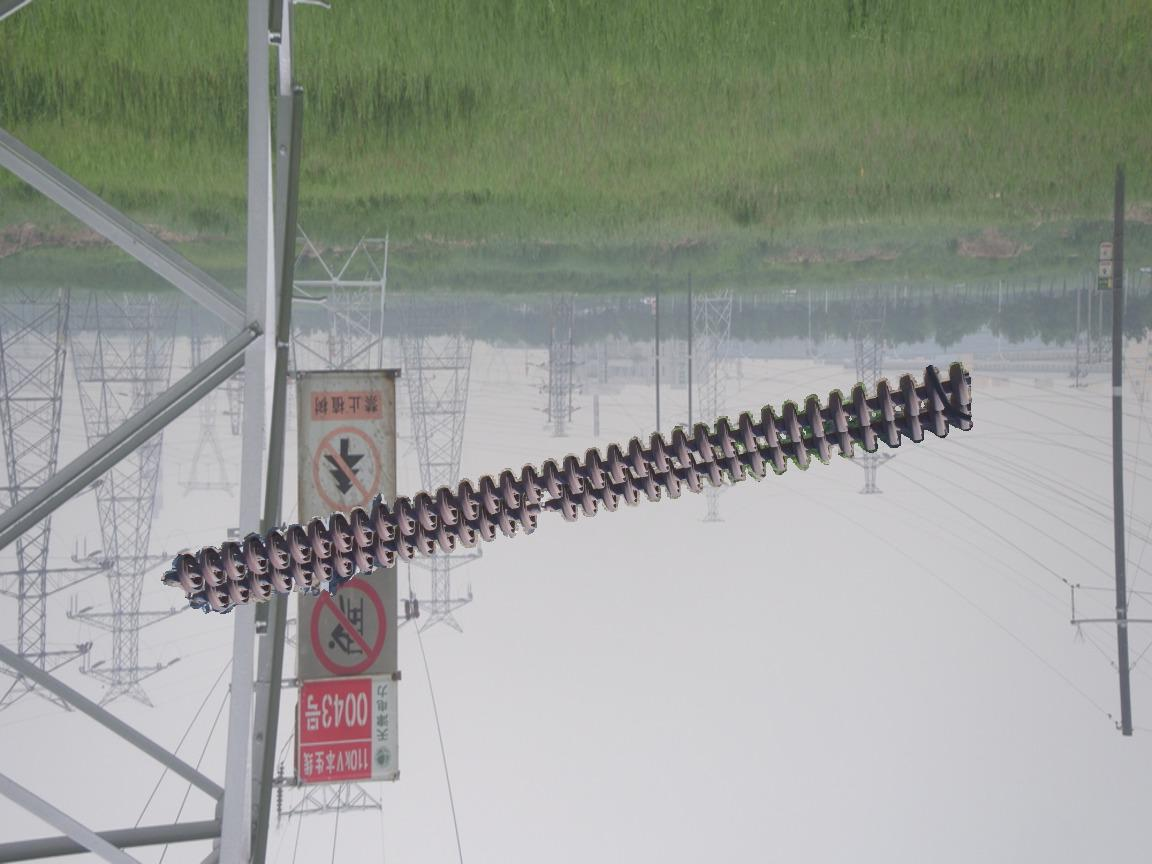insulator: (167, 358, 979, 622)
insulator_stringdrop: (515, 489, 581, 538)
